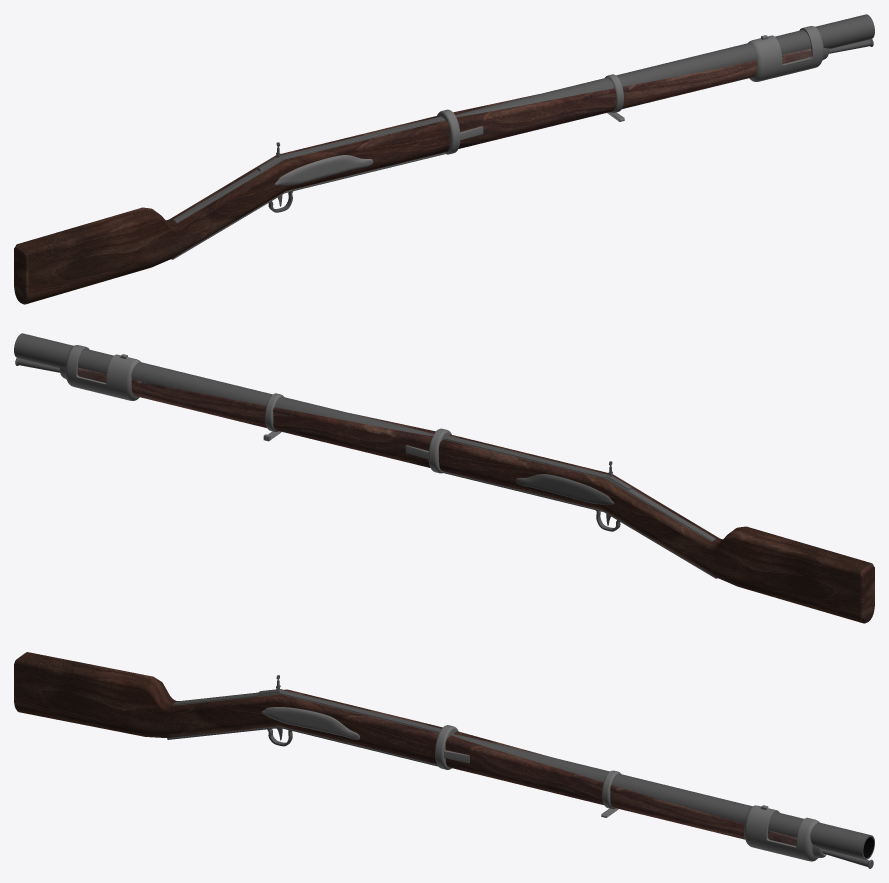
File: musket.fbx
3 views of the same model, one above another, from view 1: azimuth 30°, elevation 25°; view 2: azimuth 150°, elevation 25°; view 3: azimuth 330°, elevation 25° (orthographic).
Parts seen in each view (by area): view 1: pCylinder18; view 2: pCylinder18; view 3: pCylinder18.
Part boxes in pixels (bbox=[...]): pCylinder18: bbox=[14, 14, 874, 304]; pCylinder18: bbox=[14, 333, 874, 623]; pCylinder18: bbox=[14, 652, 874, 868].
Bounding box in the file's own units: 28.2 × 3.12 × 1.1.
